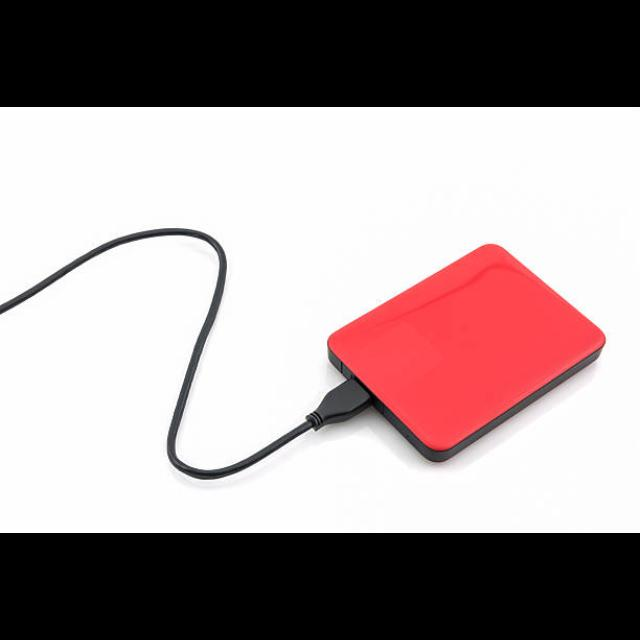HDD: (326, 244, 607, 465)
